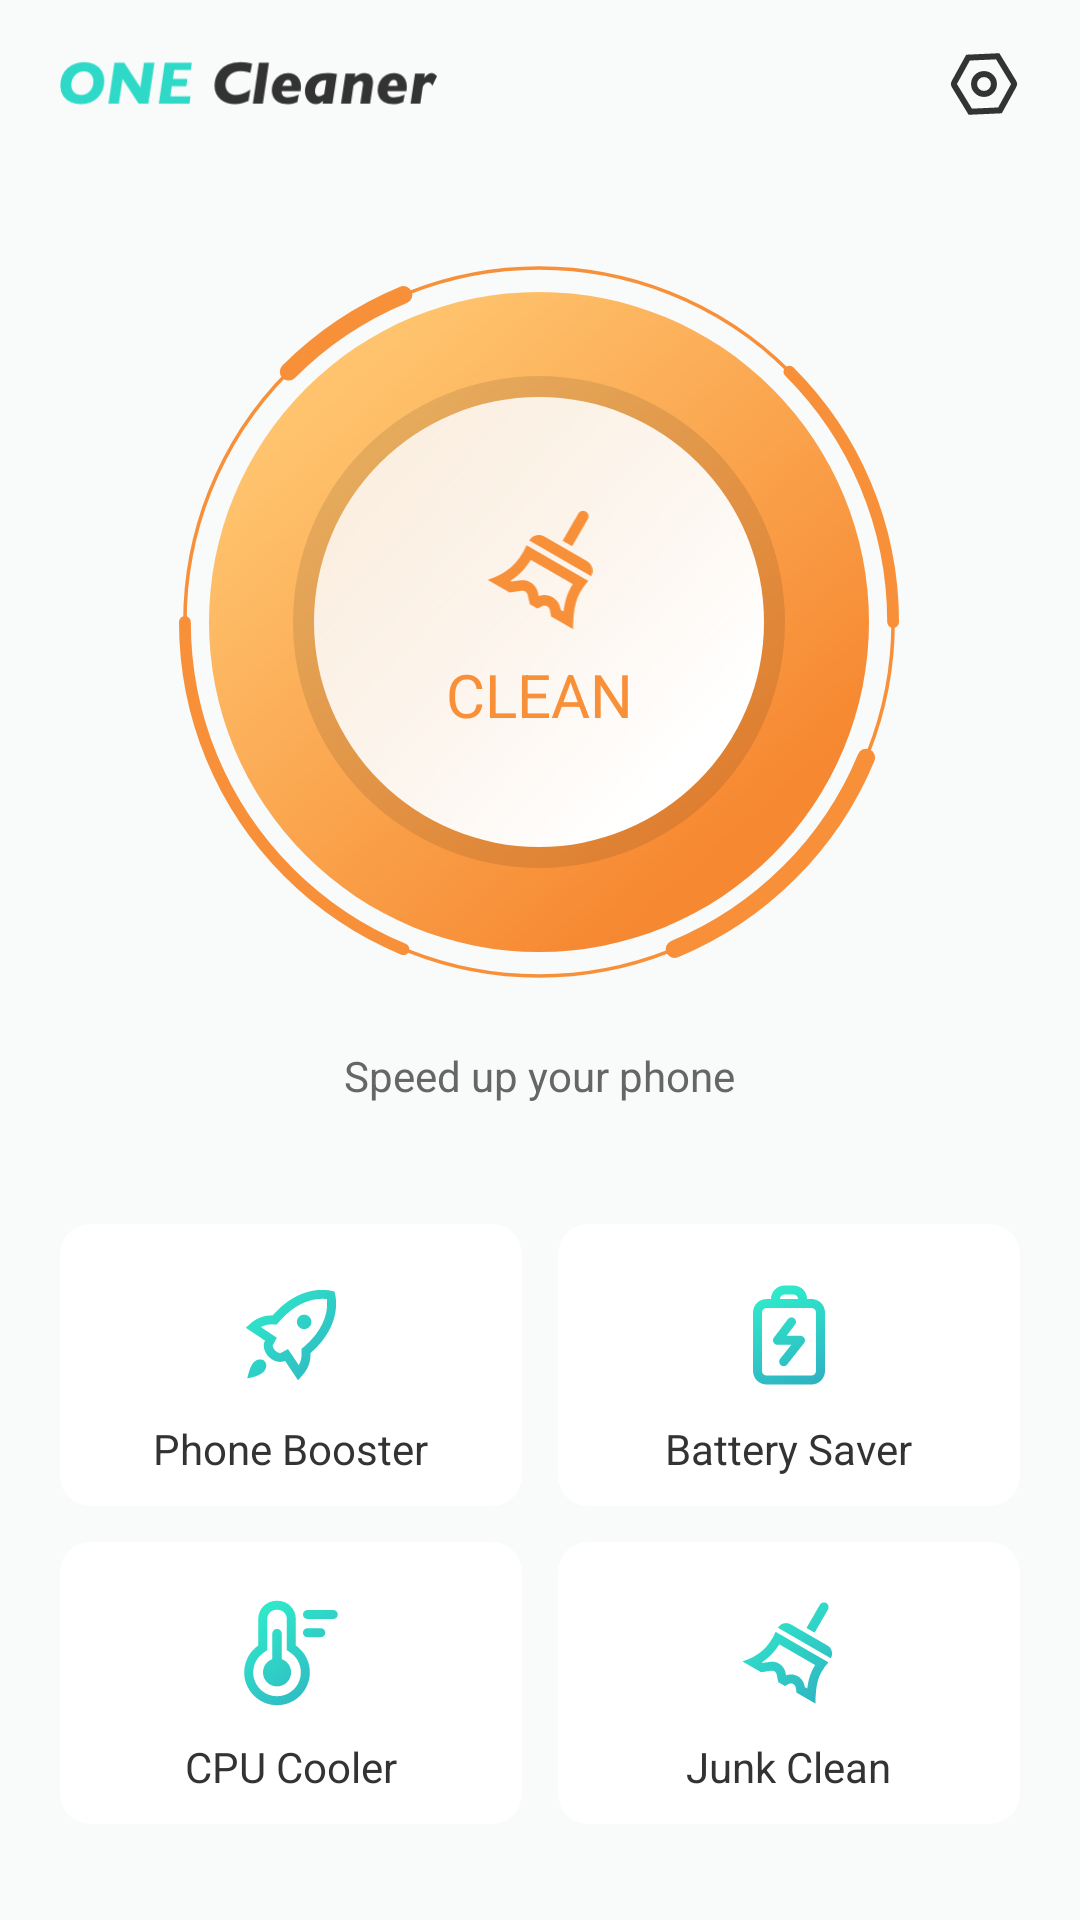

Locate icon controls on the screen. Image size 1080px x 1920px, boxes as Rect(x1, y1, x2, y2).
set up: Rect(951, 53, 1017, 115)
